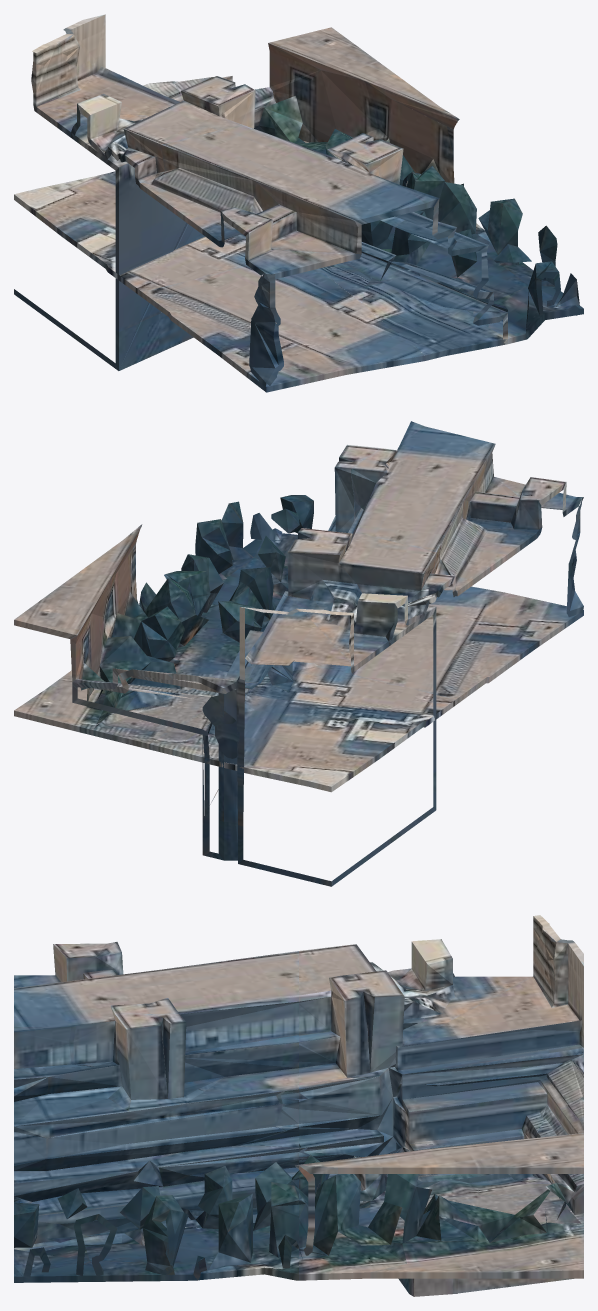
File: chunk_-1_-7.glb
3 views of the same model, one above another, from view 1: azimuth 30°, elevation 25°; view 2: azimuth 150°, elevation 25°; view 3: azimuth 270°, elevation 25° (orthographic). The views are drawn at different scales.
Visible parts, largest first — view 1: hero-chunk; view 2: hero-chunk; view 3: hero-chunk.
Boxes of the visible parts, x1=… form: hero-chunk: x1=14, y1=14, x2=583, y2=392; hero-chunk: x1=14, y1=421, x2=583, y2=886; hero-chunk: x1=14, y1=915, x2=583, y2=1296.
Size of the model in its own units: 55.73 by 43 by 76.32.
1 material, 1 textured.
